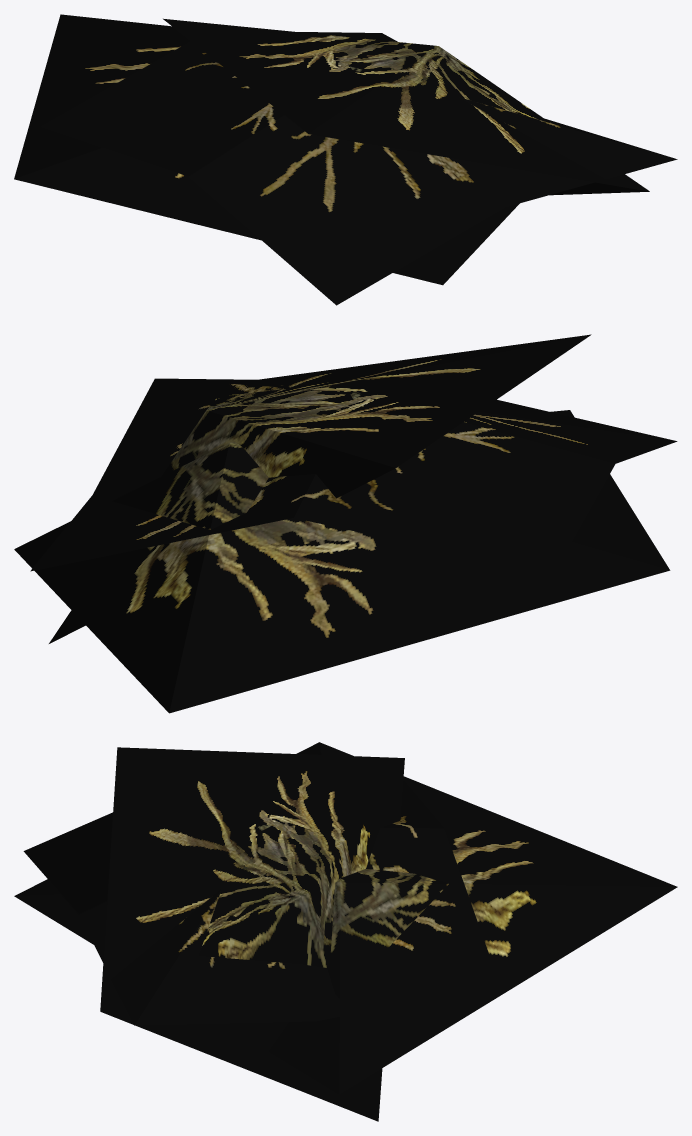
The model's file is bg_anh_foliage_te_b30_sm_old.FBX.
3 renders of one model, top to bottom at view 1: azimuth 30°, elevation 25°; view 2: azimuth 150°, elevation 25°; view 3: azimuth 270°, elevation 25°, orthographic. The views are drawn at different scales.
Visible parts, largest first — view 1: bg_anh_foliage_te_b30_sm_old; view 2: bg_anh_foliage_te_b30_sm_old; view 3: bg_anh_foliage_te_b30_sm_old.
Boxes of the visible parts, bbox=[...] form: bg_anh_foliage_te_b30_sm_old: bbox=[14, 14, 677, 305]; bg_anh_foliage_te_b30_sm_old: bbox=[14, 334, 677, 713]; bg_anh_foliage_te_b30_sm_old: bbox=[14, 742, 677, 1121].
Size of the model in its own units: 140 by 58.99 by 157.
